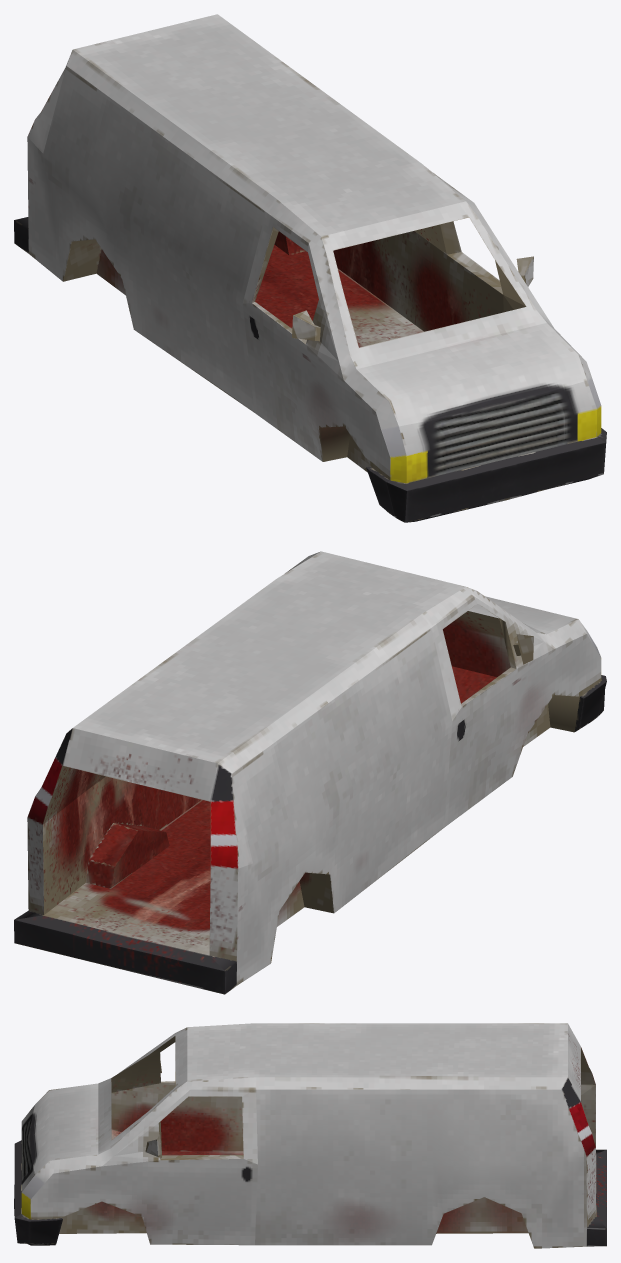
File: Van.glb
The picture shows the model from 3 angles, top to bottom: view 1: azimuth 30°, elevation 25°; view 2: azimuth 150°, elevation 25°; view 3: azimuth 270°, elevation 25°; orthographic projection. The views are drawn at different scales.
Visible parts, largest first — view 1: pCube1; view 2: pCube1; view 3: pCube1.
Part boxes in pixels (x1,y1,x2,y2): pCube1: [14, 14, 606, 522]; pCube1: [14, 551, 606, 994]; pCube1: [14, 1023, 606, 1248].
Size of the model in its own units: 2.9 by 2.41 by 8.06.
1 material, 1 textured.
